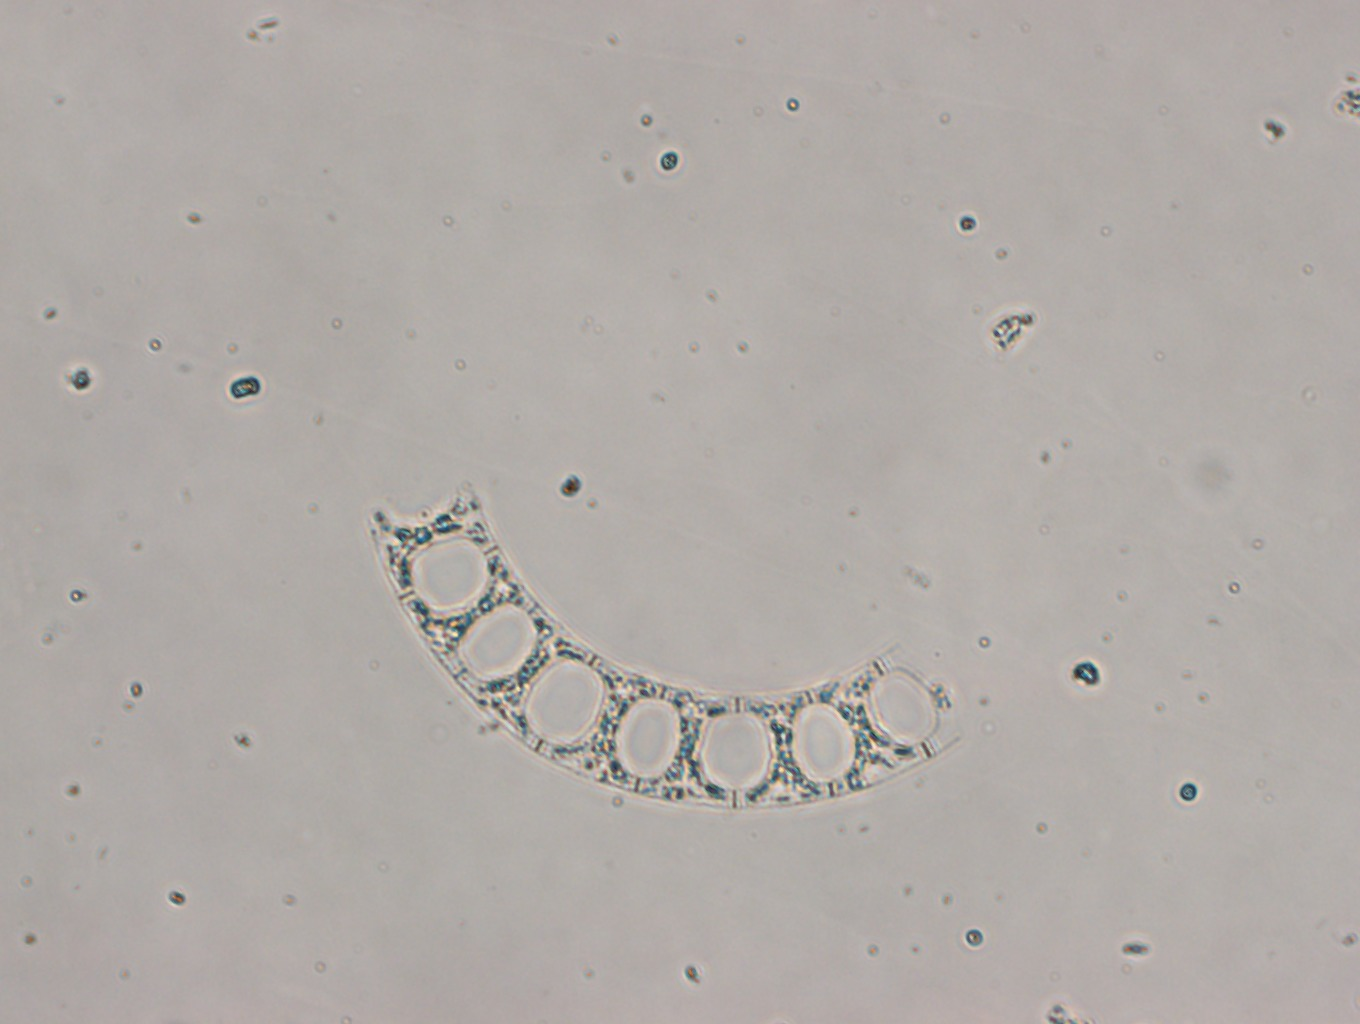eucampia: (366, 478, 961, 811)
